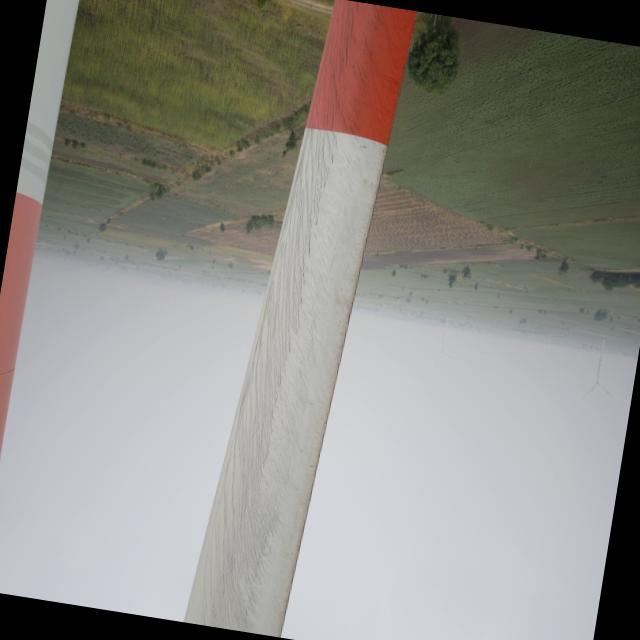Dirt: (185, 0, 379, 624)
